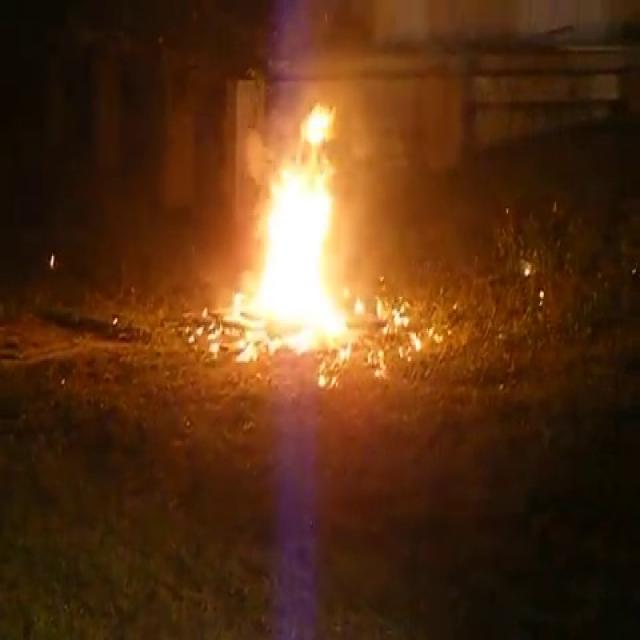Fire: (224, 97, 364, 356)
